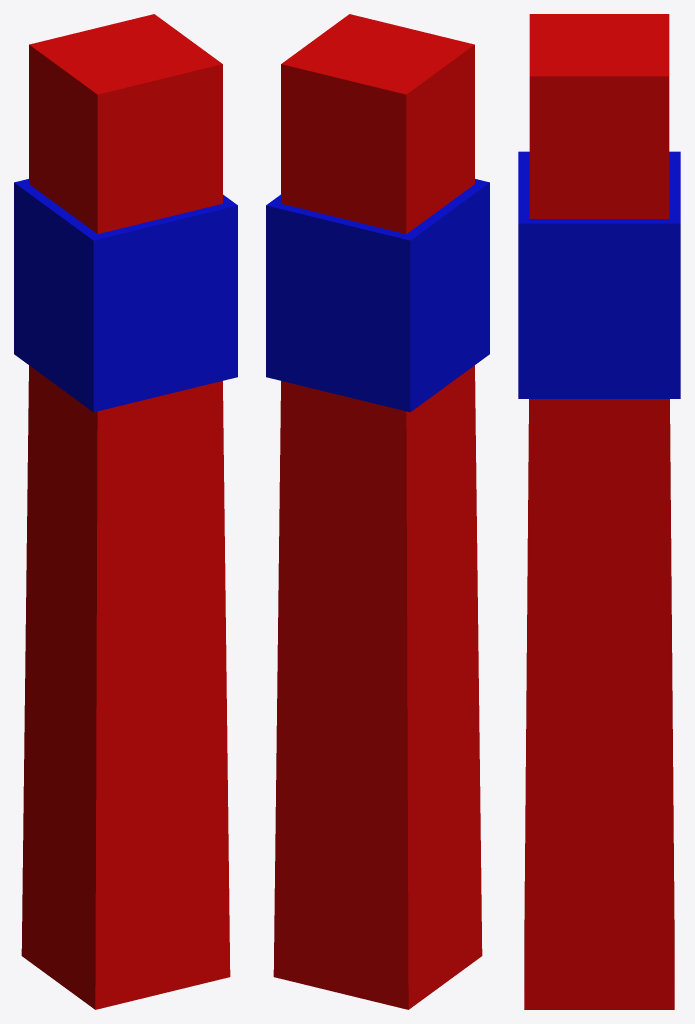
File: PillierPont.FBX
3 views of the same model, side by side, from view 1: azimuth 30°, elevation 25°; view 2: azimuth 150°, elevation 25°; view 3: azimuth 270°, elevation 25° (orthographic). The views are drawn at different scales.
Parts seen in each view (by area): view 1: PilierPont; view 2: PilierPont; view 3: PilierPont.
Boxes of the visible parts, x1,y1,x2,y2 form: PilierPont: [14, 14, 237, 1009]; PilierPont: [266, 14, 489, 1009]; PilierPont: [518, 14, 680, 1009].
Bounding box in the file's own units: 14.54 × 87.74 × 13.86.
